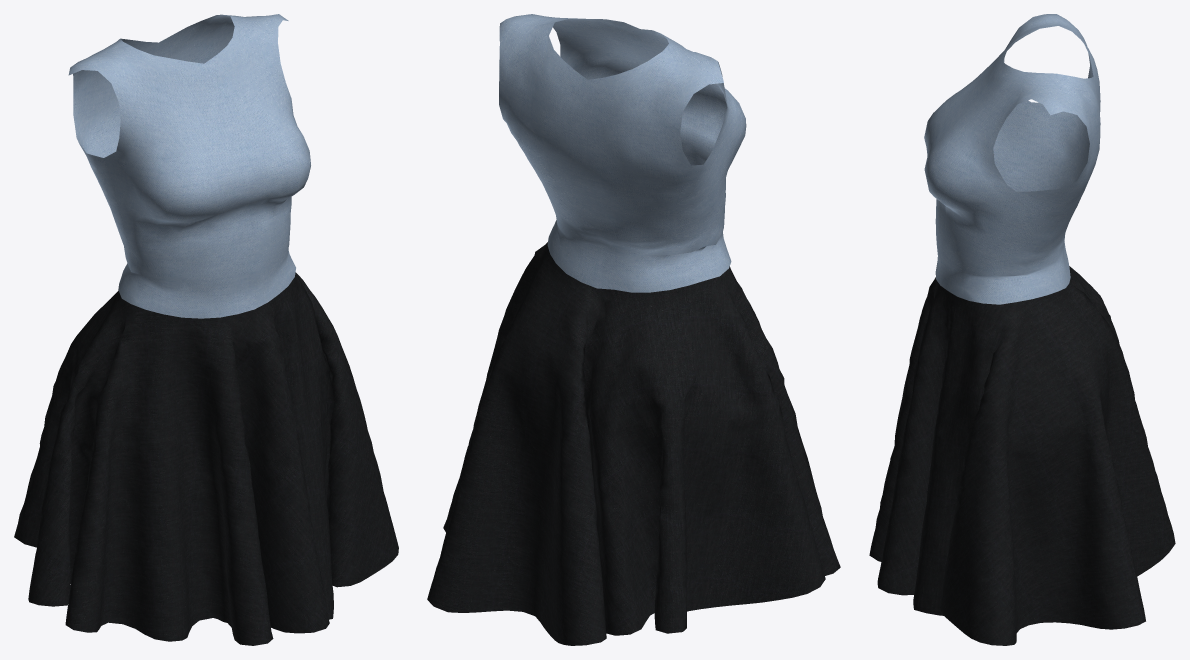
The model's file is woman_dress.glb.
3 views of the same model, side by side, from view 1: azimuth 30°, elevation 25°; view 2: azimuth 150°, elevation 25°; view 3: azimuth 270°, elevation 25° (orthographic). The views are drawn at different scales.
Visible parts, largest first — view 1: dress_Stretch_Denim_FCL1PSD003_FRONT_4181_0; view 2: dress_Stretch_Denim_FCL1PSD003_FRONT_4181_0; view 3: dress_Stretch_Denim_FCL1PSD003_FRONT_4181_0.
Part boxes in pixels (bbox=[...]): dress_Stretch_Denim_FCL1PSD003_FRONT_4181_0: bbox=[14, 14, 398, 645]; dress_Stretch_Denim_FCL1PSD003_FRONT_4181_0: bbox=[427, 14, 840, 645]; dress_Stretch_Denim_FCL1PSD003_FRONT_4181_0: bbox=[869, 14, 1175, 645].
Bounding box in the file's own units: 0.6792 × 1 × 0.5248.
2 materials, 2 textured.
